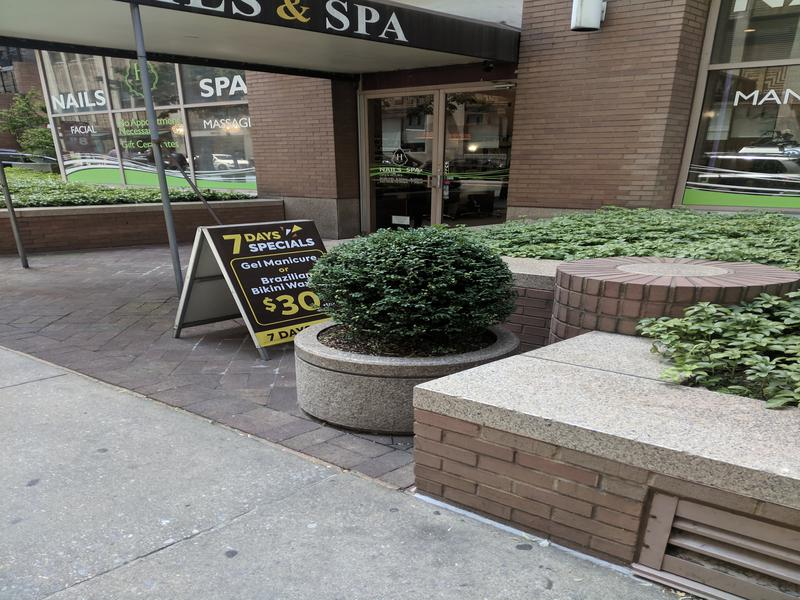double_door: (358, 79, 518, 236)
